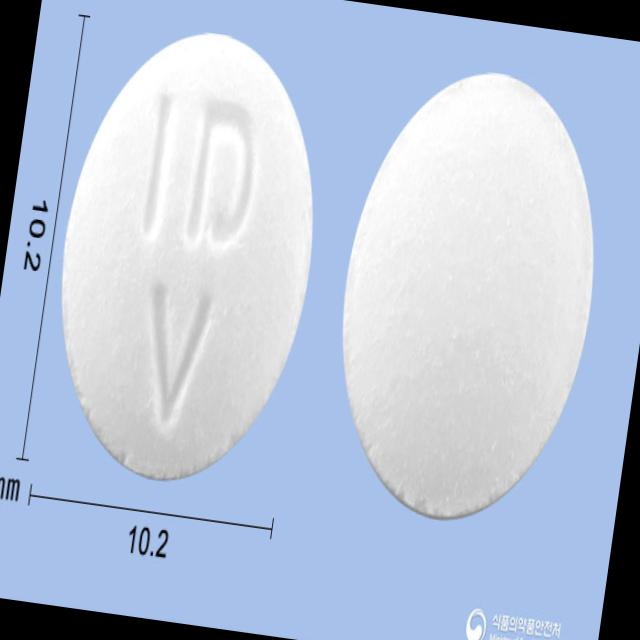Besivo: (32, 12, 344, 502)
